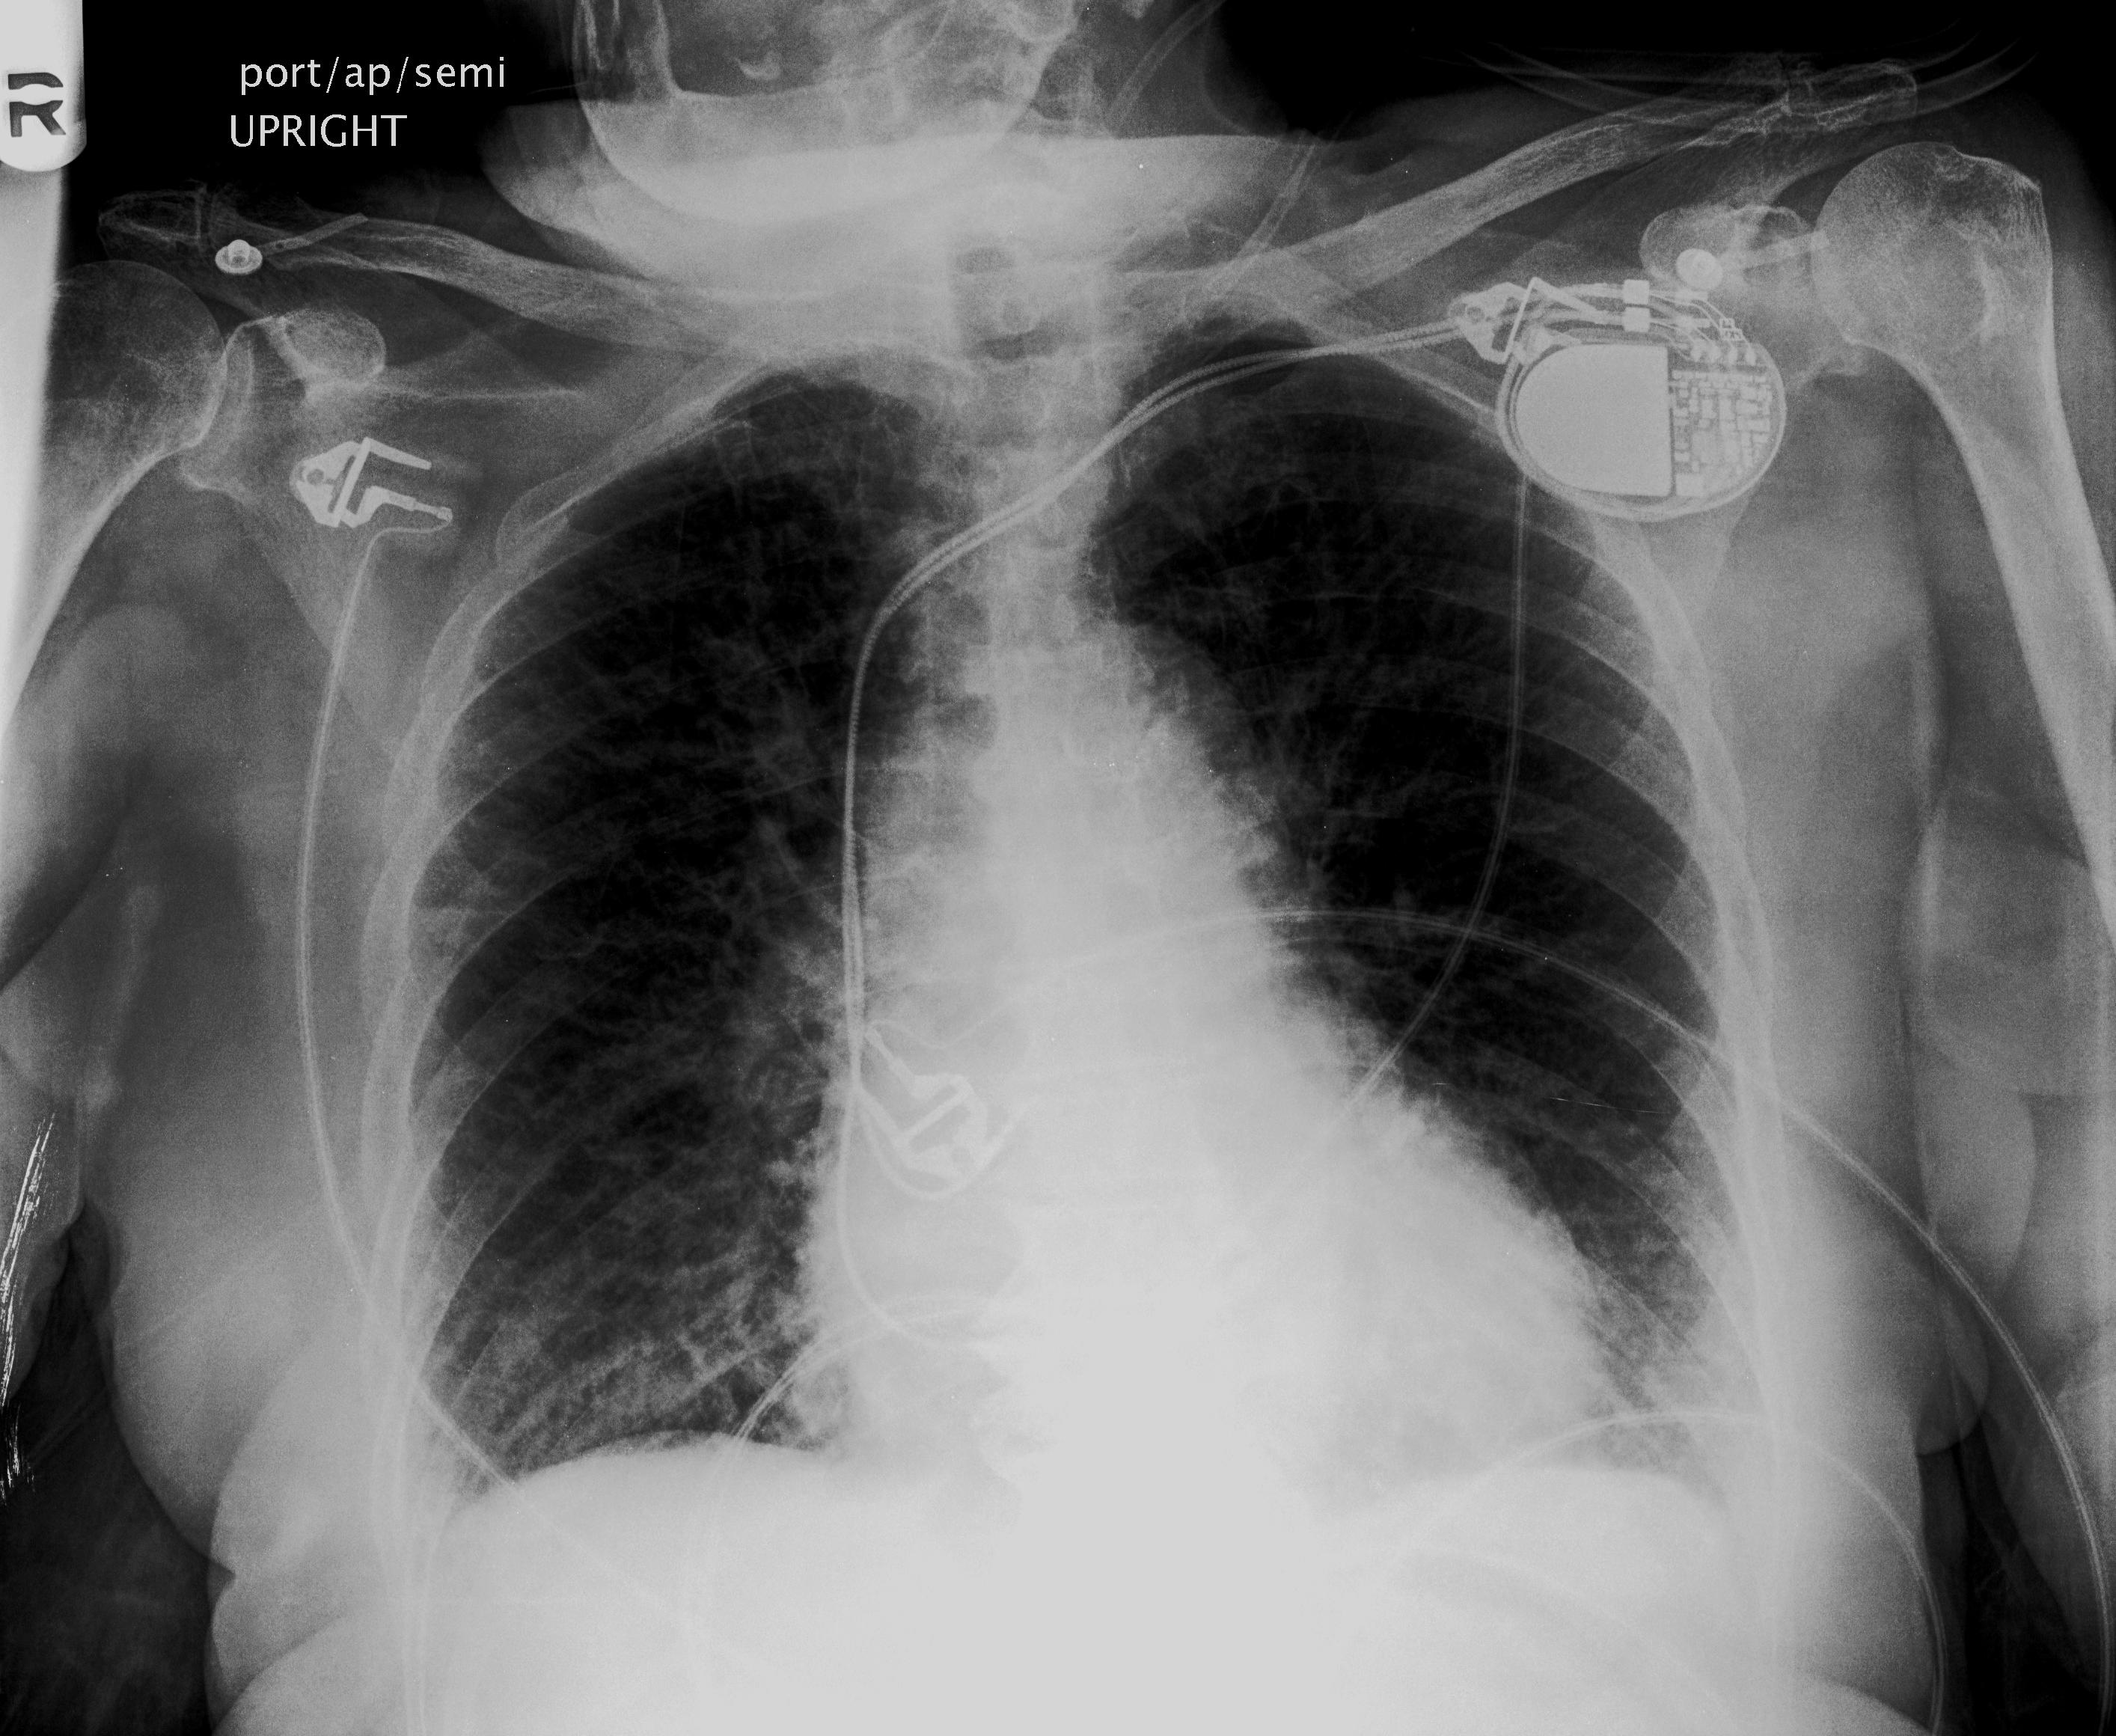Pleural Effusion: (1374, 1298, 1851, 1724), (337, 1429, 759, 1617)
